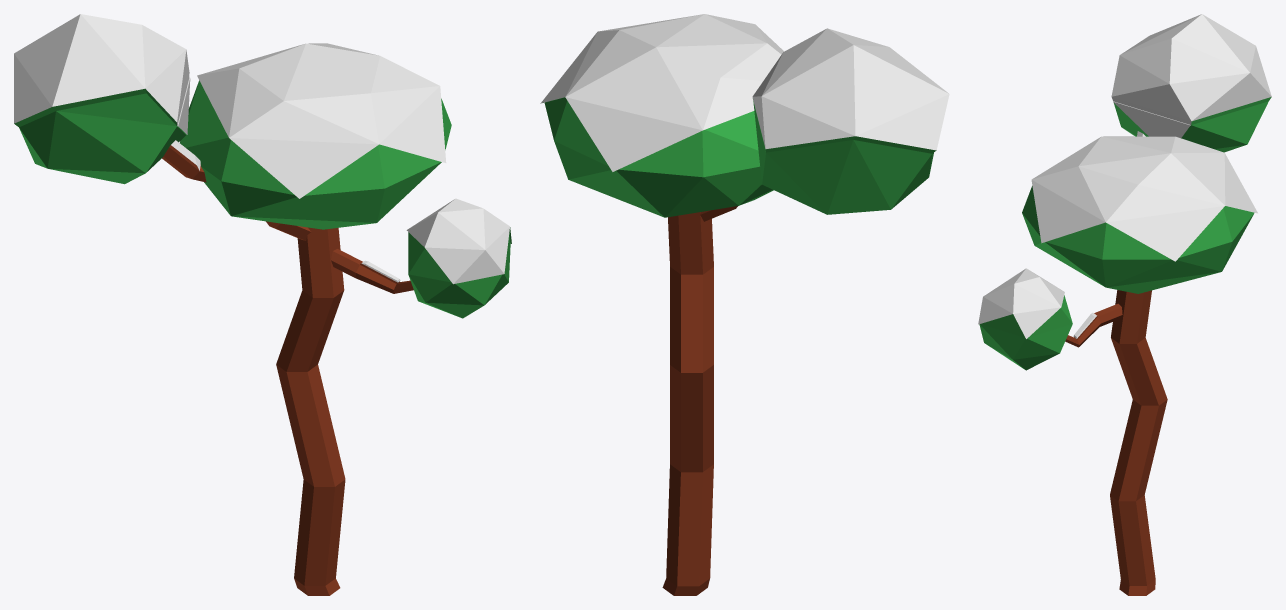
File: tree.016.fbx
3 views of the same model, side by side, from view 1: azimuth 30°, elevation 25°; view 2: azimuth 150°, elevation 25°; view 3: azimuth 270°, elevation 25° (orthographic). The views are drawn at different scales.
Parts seen in each view (by area): view 1: Tree.016; view 2: Tree.016; view 3: Tree.016.
Part boxes in pixels (<box>): Tree.016: <box>14,14,511,595</box>; Tree.016: <box>540,14,949,595</box>; Tree.016: <box>978,14,1271,595</box>.
Bounding box in the file's own units: 659 × 939 × 505.
